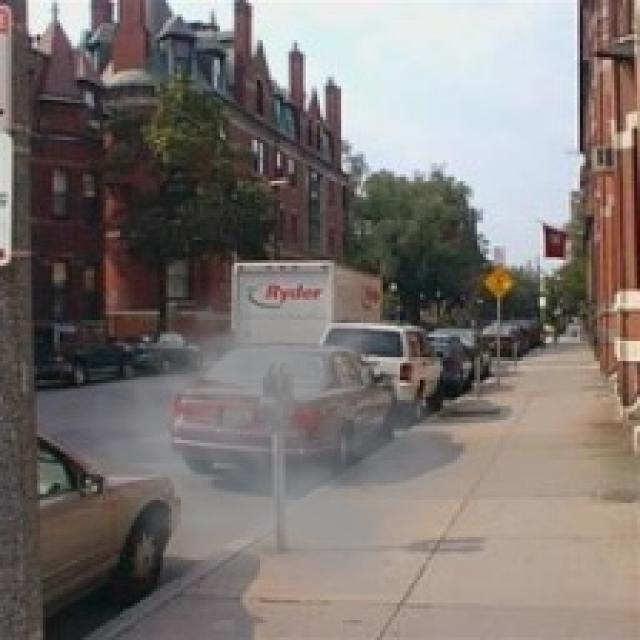smoke: (63, 249, 480, 594)
